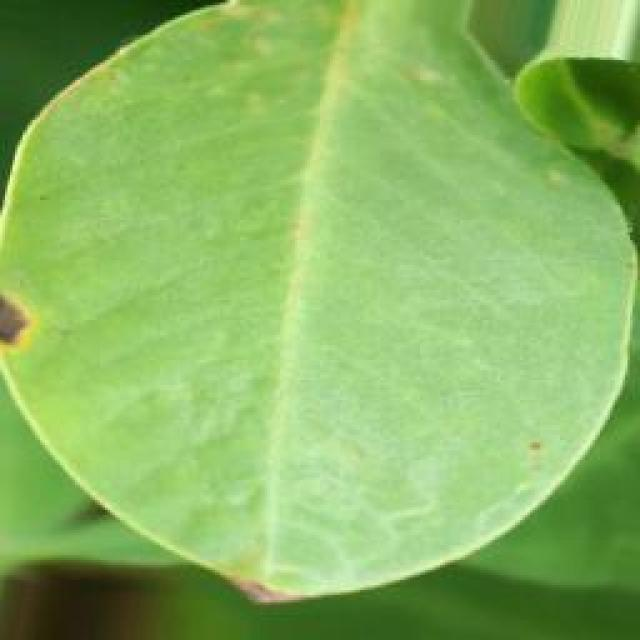Early_leaf_spot: (219, 540, 326, 640), (0, 272, 69, 411), (496, 413, 585, 504)
